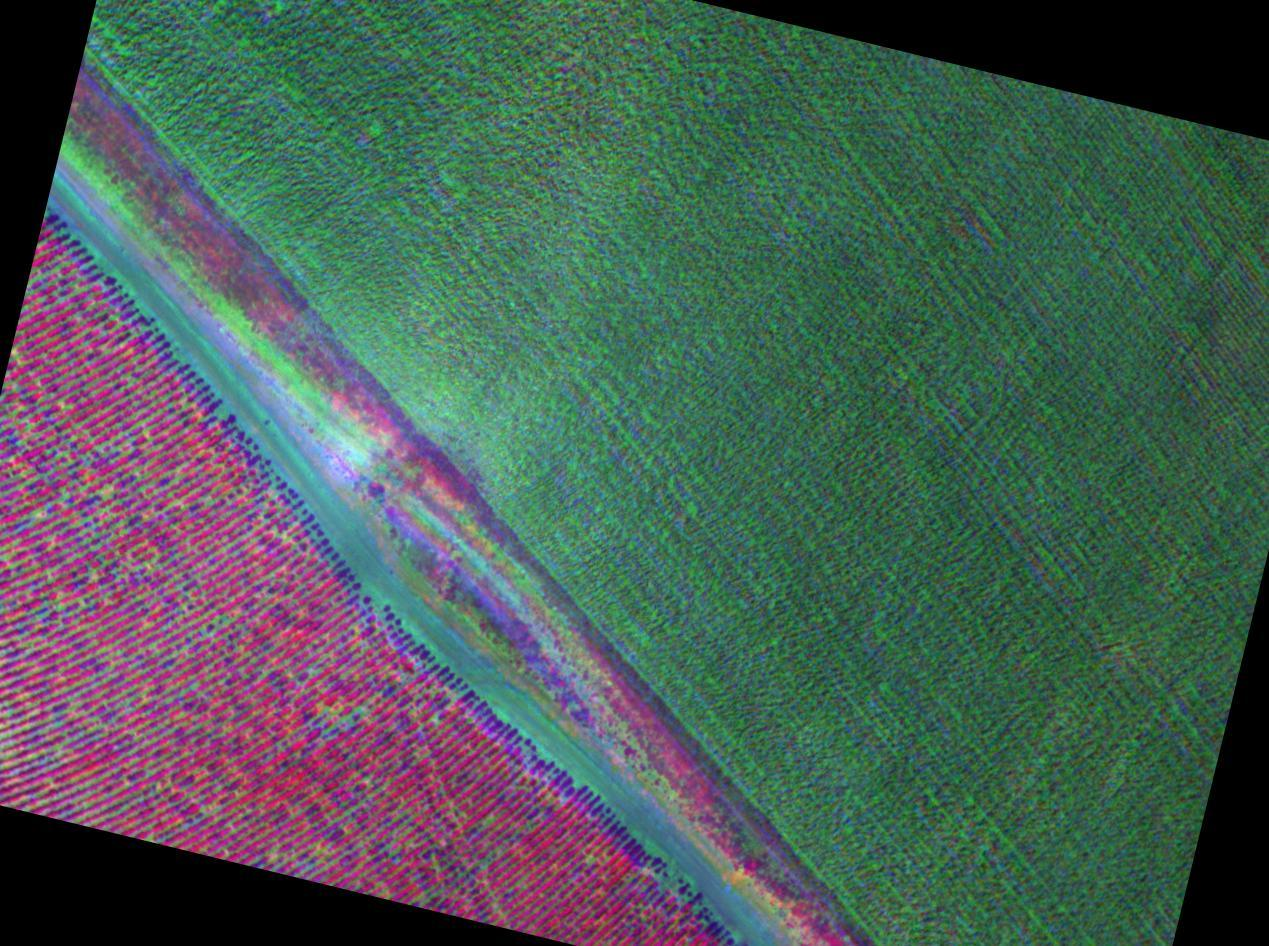dc: (0, 633, 65, 778), (6, 350, 94, 429), (71, 458, 153, 536), (313, 685, 398, 758), (191, 613, 240, 670)
